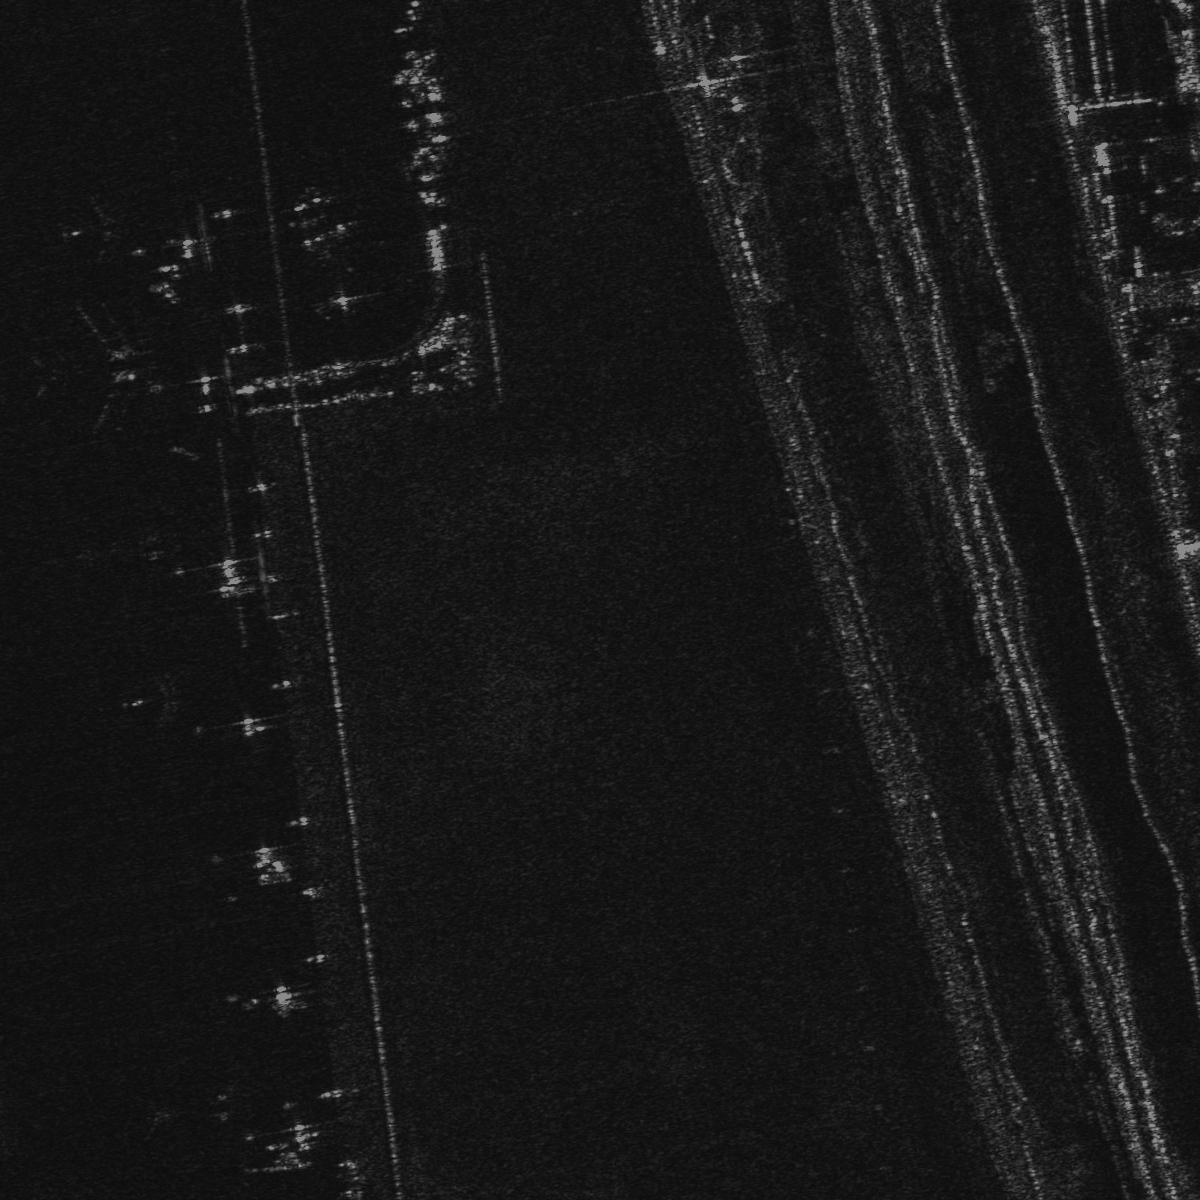Boeing787: (27, 296, 157, 433), (53, 189, 130, 262), (119, 663, 195, 731)
